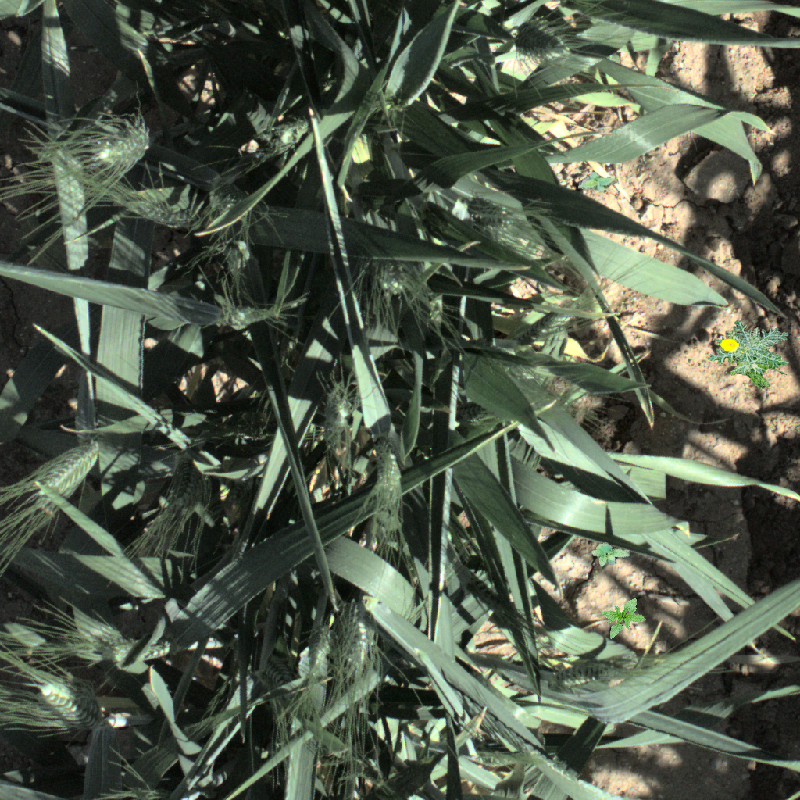spikelet: (31, 438, 103, 495), (36, 674, 105, 727), (549, 654, 629, 692), (94, 122, 151, 168), (335, 605, 373, 668), (319, 381, 353, 449), (511, 21, 567, 61), (130, 197, 196, 229), (83, 622, 133, 664), (153, 479, 189, 537), (211, 304, 280, 332), (372, 443, 403, 504), (375, 260, 410, 296), (276, 116, 308, 149)
weed: (708, 320, 789, 390), (597, 593, 649, 640), (587, 538, 632, 574), (578, 172, 617, 194)
